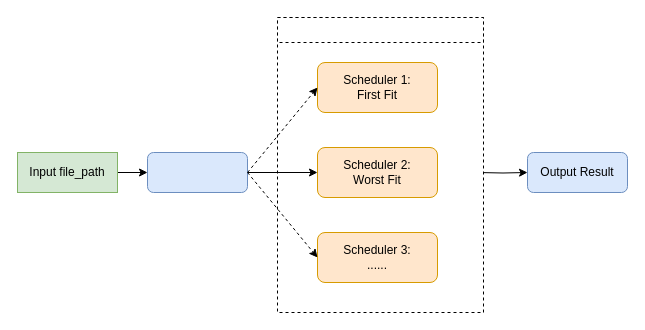
Some shapes in this 645 by 330 pixel diagram are drawn without their labels. The shapes that lost their labels are listed below. From the top down, each one's box as (x1, y1, x2, y2) in pixels, then its label:
(276, 16, 484, 42): Choose a scheduler
(146, 152, 248, 192): Parse Input
